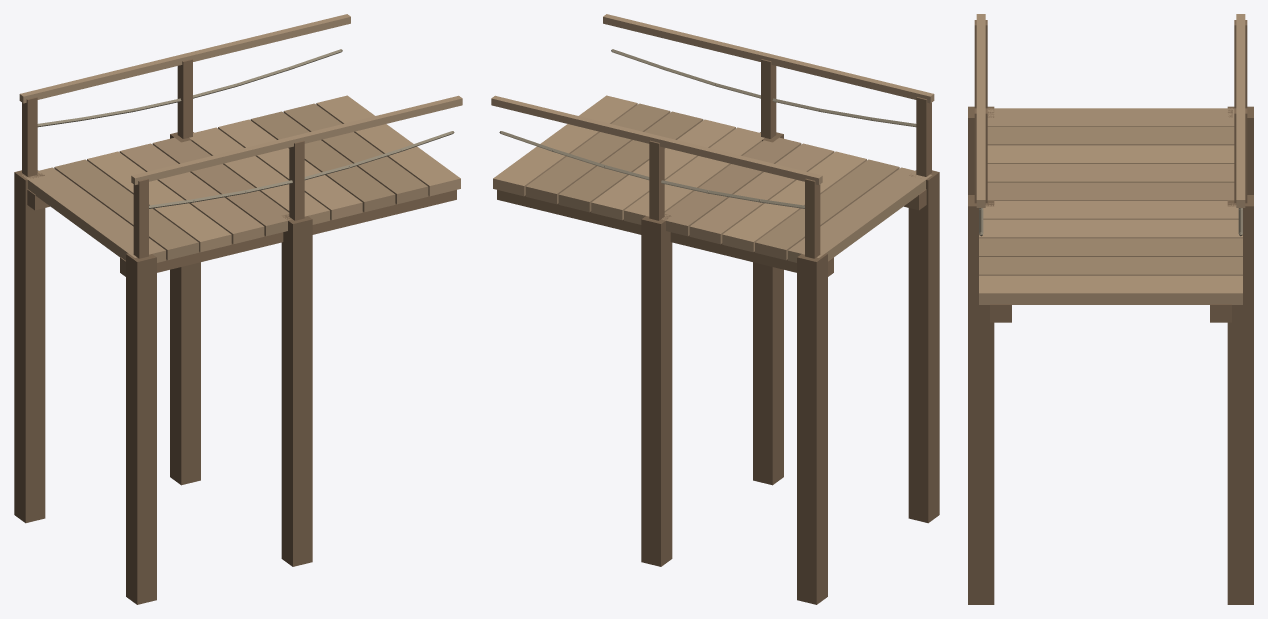
Rendered from pier.glb.
3 views of the same model, side by side, from view 1: azimuth 30°, elevation 25°; view 2: azimuth 150°, elevation 25°; view 3: azimuth 270°, elevation 25° (orthographic). The views are drawn at different scales.
Parts seen in each view (by area): view 1: pier; view 2: pier; view 3: pier.
Part boxes in pixels (x1,y1,x2,y2): pier: (14, 14, 462, 604); pier: (491, 14, 939, 604); pier: (968, 14, 1253, 604).
Size of the model in its own units: 4.02 by 4.94 by 2.6.
